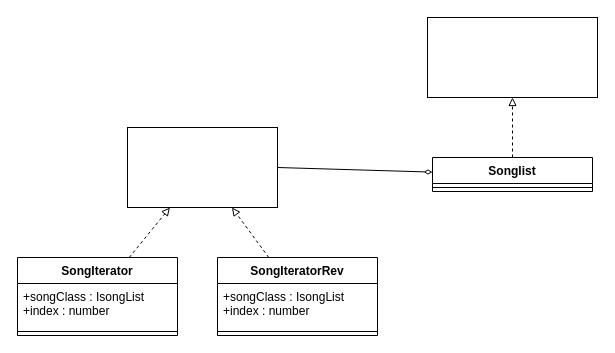
This 615x353 diagram has some shape labels left out. The shapes that lost their labels are listed below. From the top down, each one's box as (x1, y1, x2, y2) in pixels, then its label:
(426, 16, 598, 98): IsongList songArr : string[] addSong(song : string) : void
(126, 126, 278, 208): interface IsongIterator playNext() : void hasNext() : boolean
